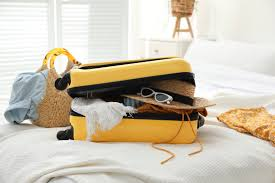suitcase: (56, 56, 197, 147)
